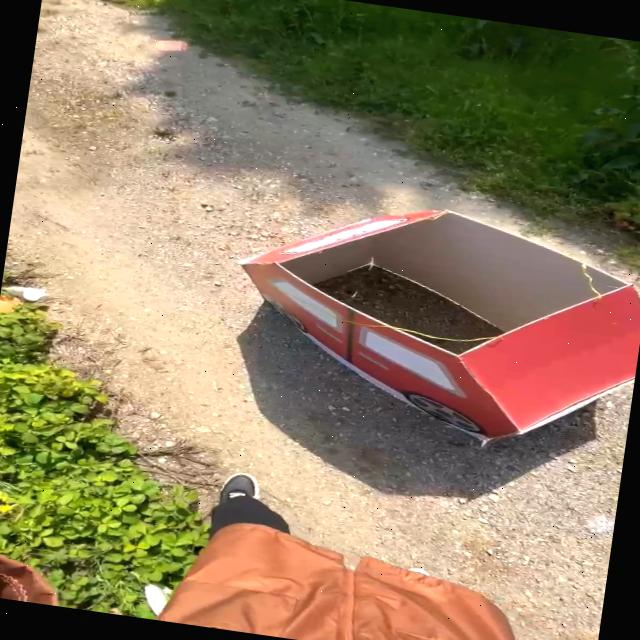red_car: (200, 176, 640, 471)
